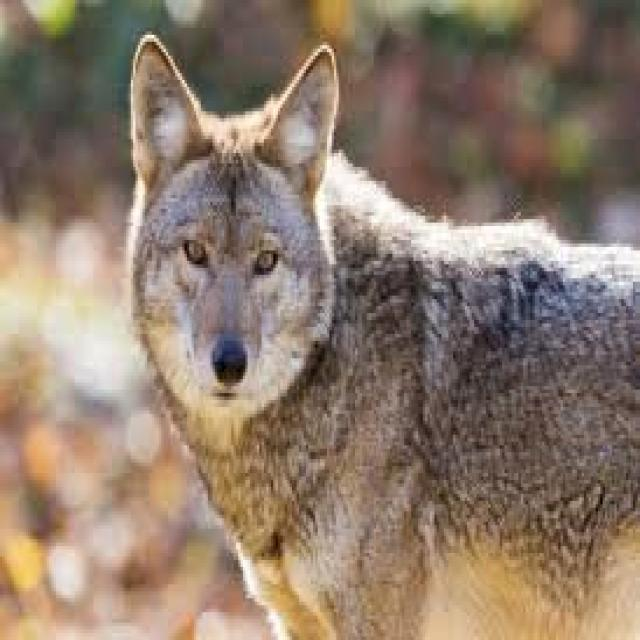coyote: (131, 35, 638, 637)
